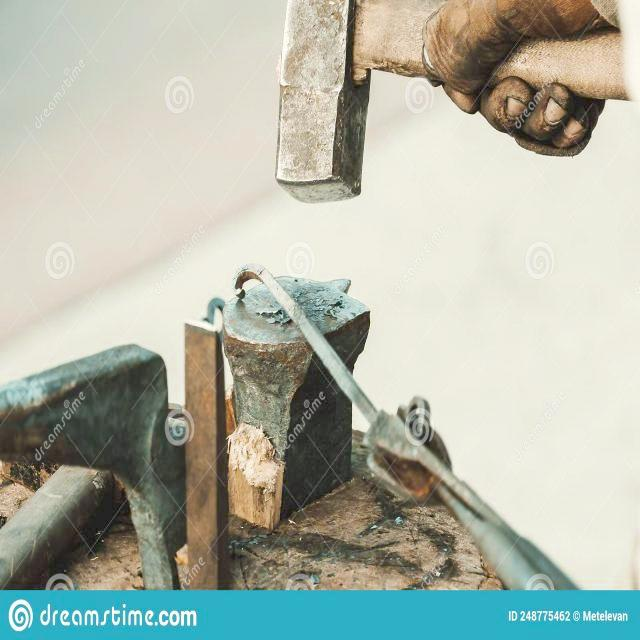hammer: (257, 0, 640, 211)
